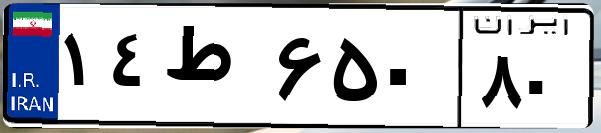0: (385, 28, 445, 110), (525, 38, 570, 115)
1: (57, 26, 110, 100)
4: (110, 28, 158, 98)
5: (330, 28, 385, 110)
6: (270, 28, 330, 110)
8: (475, 38, 525, 113)
ط: (158, 20, 270, 120)
